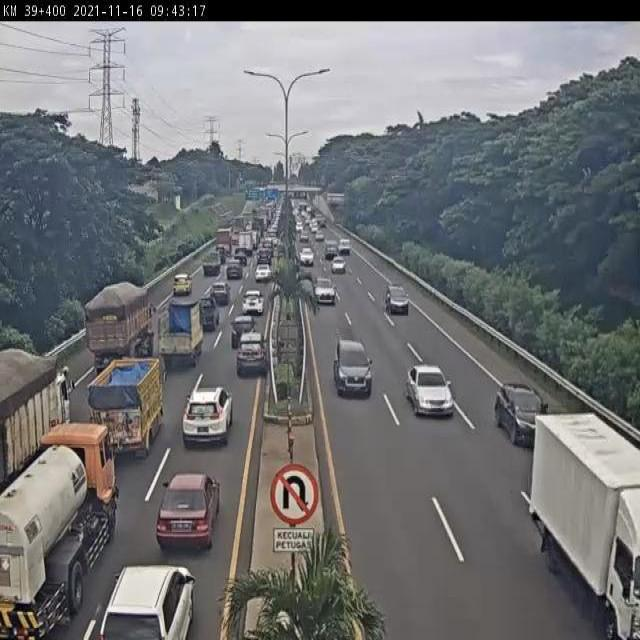car: (155, 472, 220, 553), (113, 560, 180, 632), (188, 383, 232, 452), (330, 339, 370, 401), (411, 352, 450, 413), (503, 380, 541, 433), (235, 334, 267, 382), (387, 282, 413, 318), (196, 294, 220, 330), (311, 264, 335, 297), (234, 315, 251, 344), (170, 272, 188, 299), (212, 277, 228, 307), (246, 292, 261, 323), (329, 251, 347, 272), (324, 236, 338, 260), (300, 240, 316, 261), (228, 260, 240, 280), (256, 268, 269, 285)
small truck: (203, 249, 220, 272)
truck-l-: (2, 344, 76, 508), (84, 280, 158, 383)
truck-m-: (0, 420, 117, 640), (532, 414, 640, 640), (88, 354, 168, 462), (159, 301, 205, 368)
